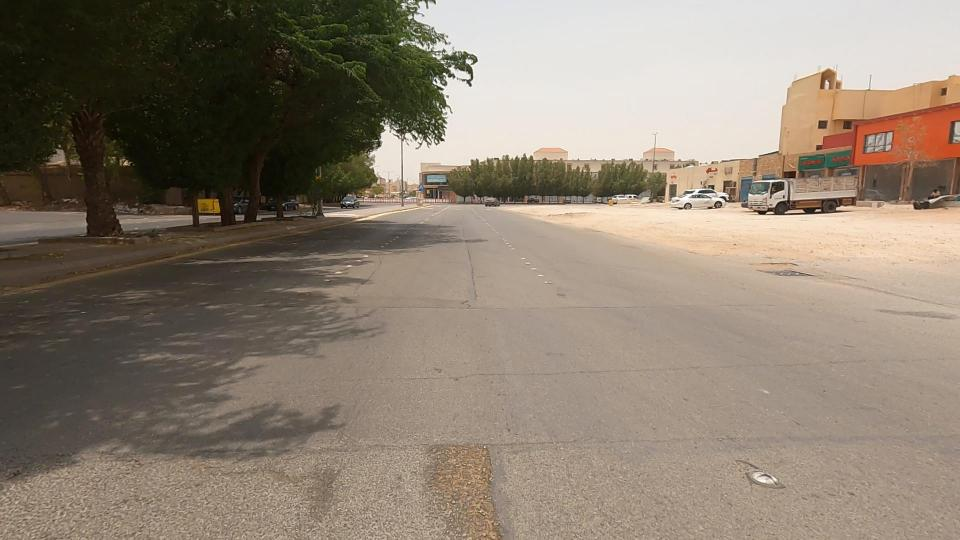POTHOLES: (338, 370, 603, 540)
